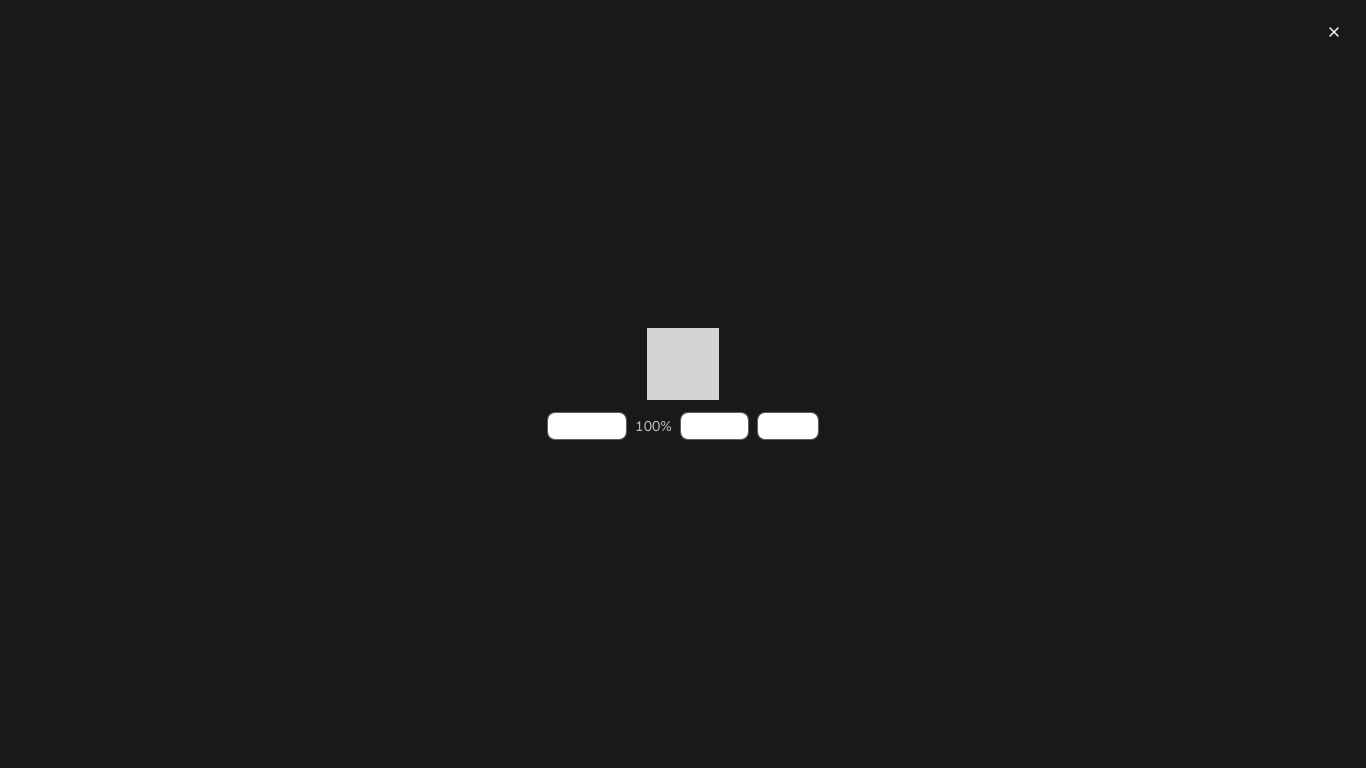
Test: ImageViewer › decreases zoom on Zoom Out click
What coordinates should you click on to do the following:
click the button "Zoom Out"
I would click on:
 (587, 426)
Its box is 547,412 -> 627,440.
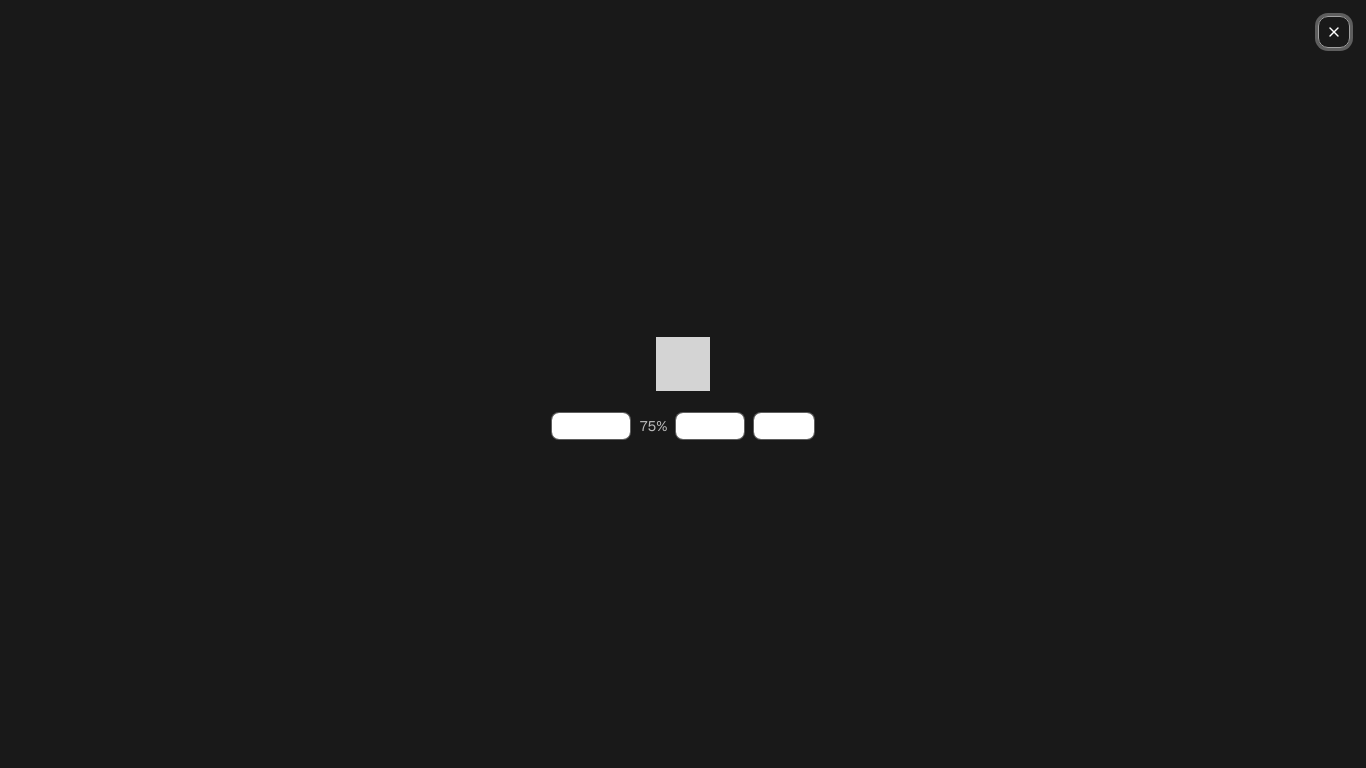
Check: the text "75%" is shown, box 639,416 -> 667,436
